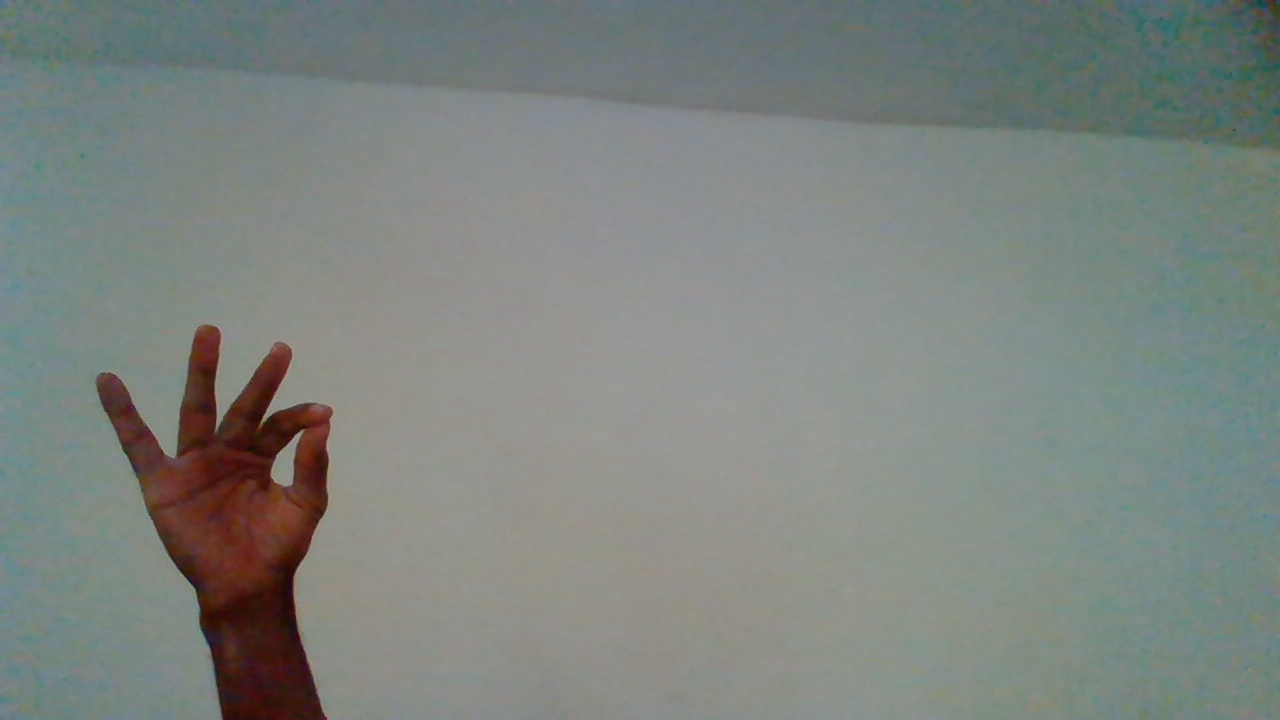le: (91, 324, 330, 703)
